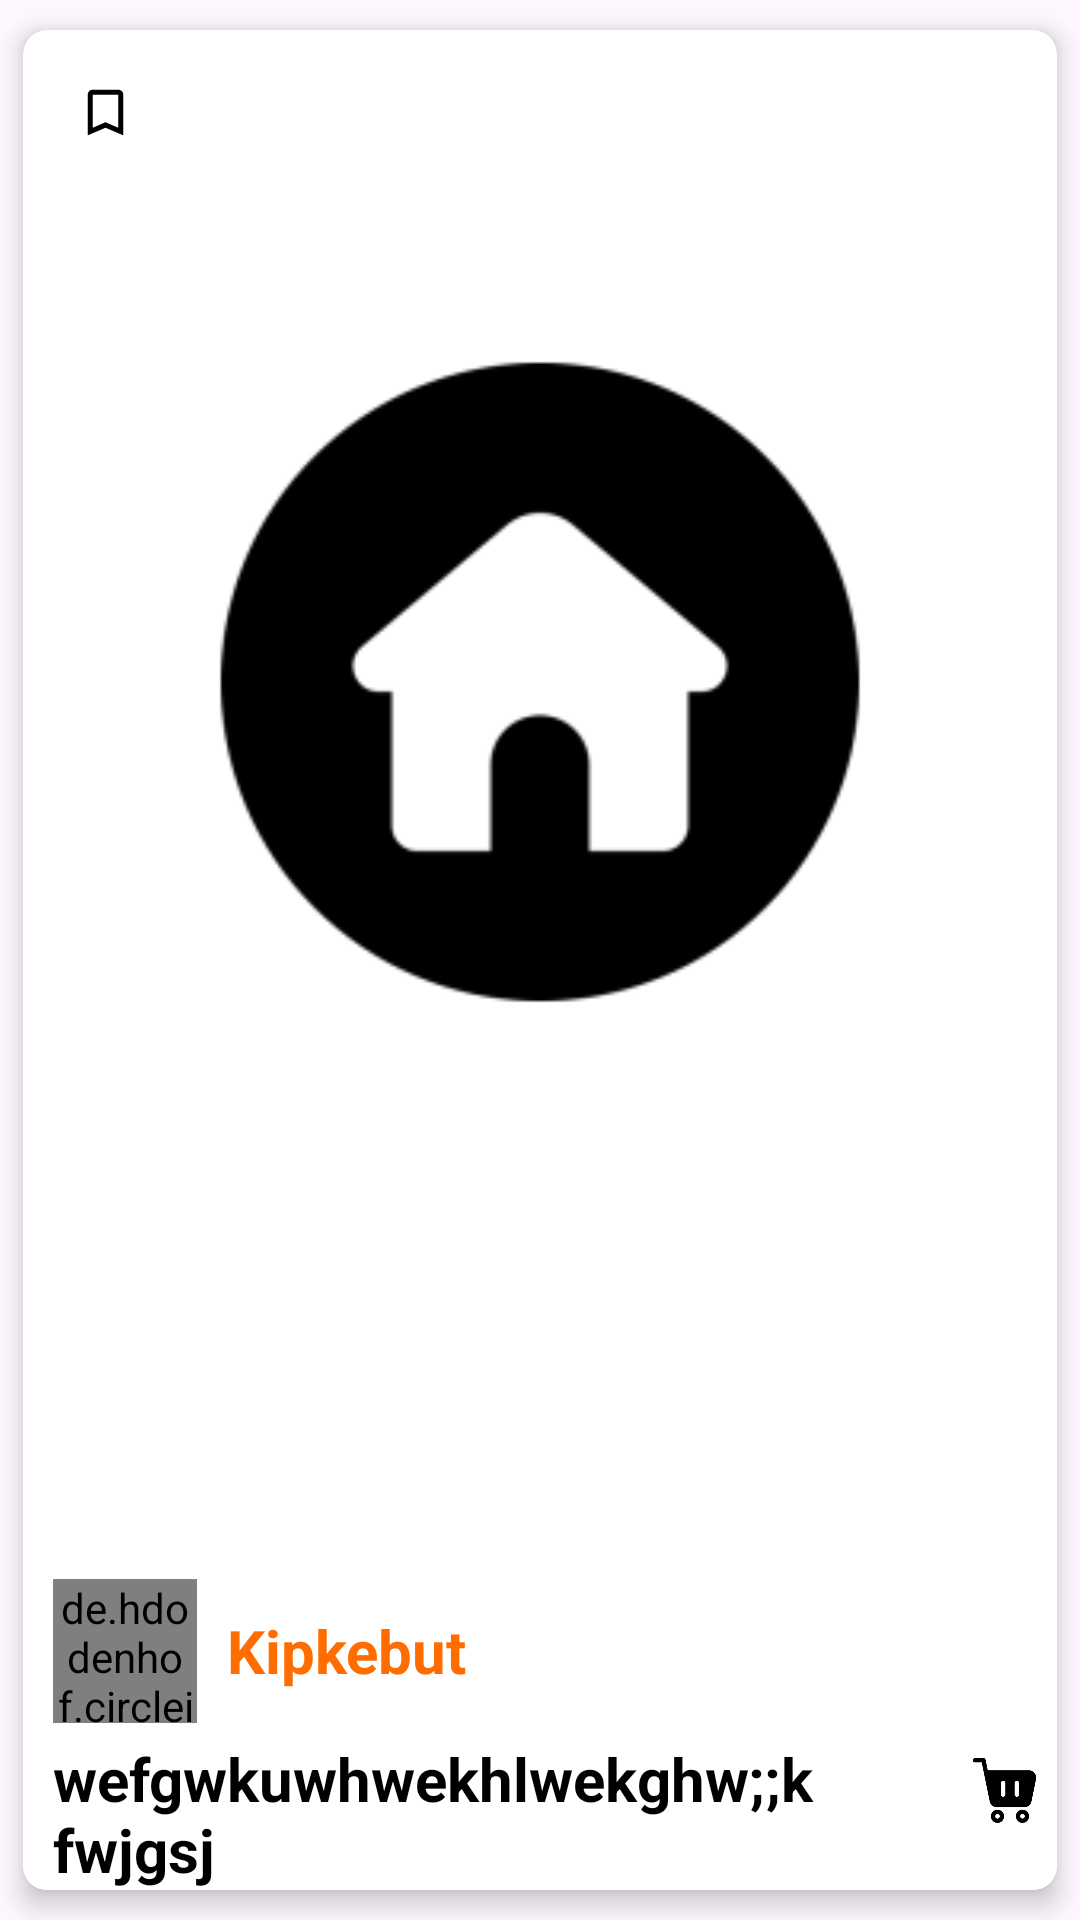

Named icons in this screenshot (1080 x 1920) and their bounding boxes, [left=x1, top=y1, right=x2, bottom=y2]:
orders: [left=973, top=1758, right=1036, bottom=1823]
save: [left=87, top=89, right=124, bottom=135]
